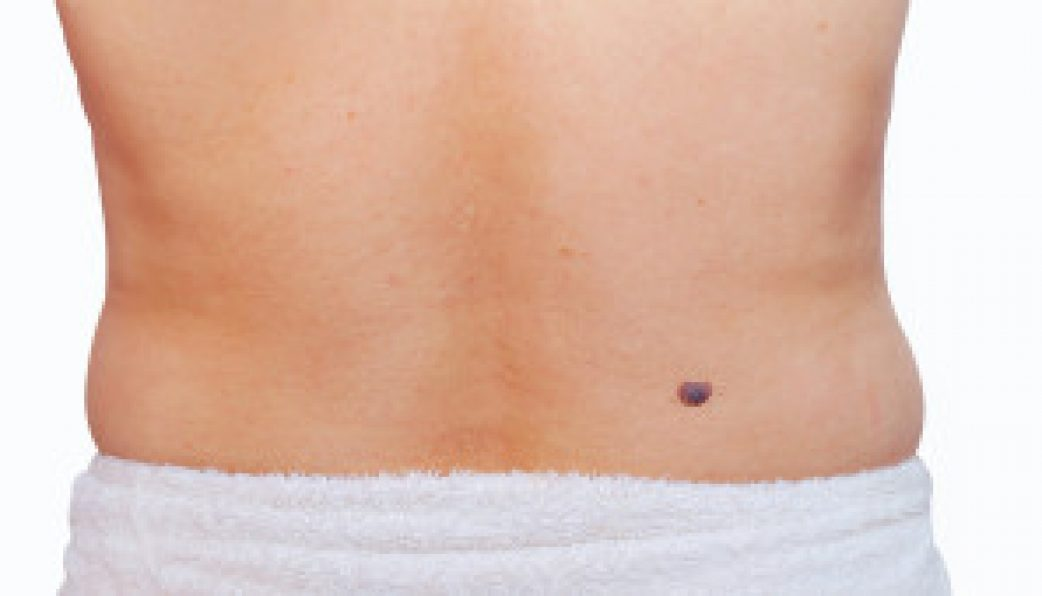mole: (660, 356, 736, 424)
